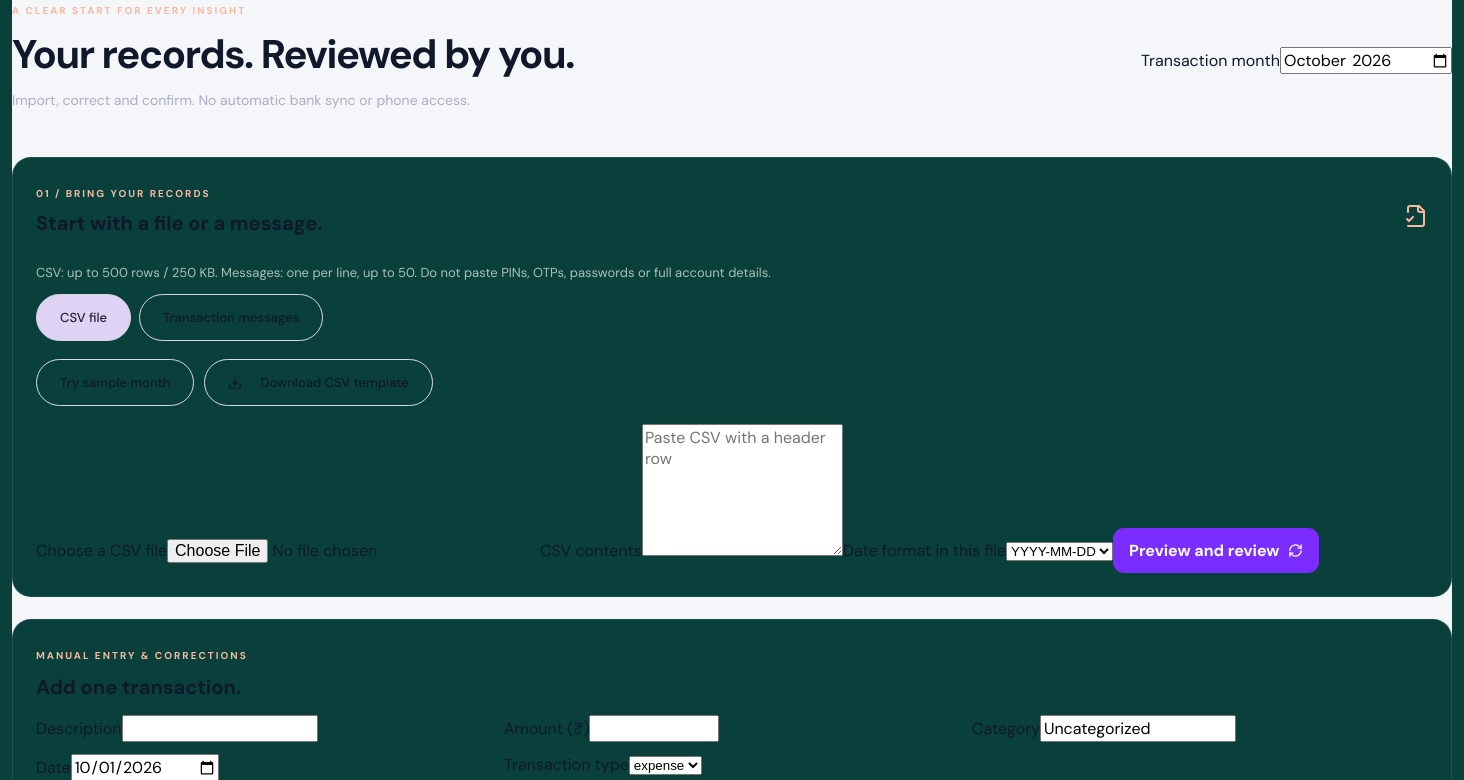
it: lets the user explicitly include a duplicate and acknowledge it
Click the button "Try sample month".
click(115, 382)  # box [36,359,194,406]
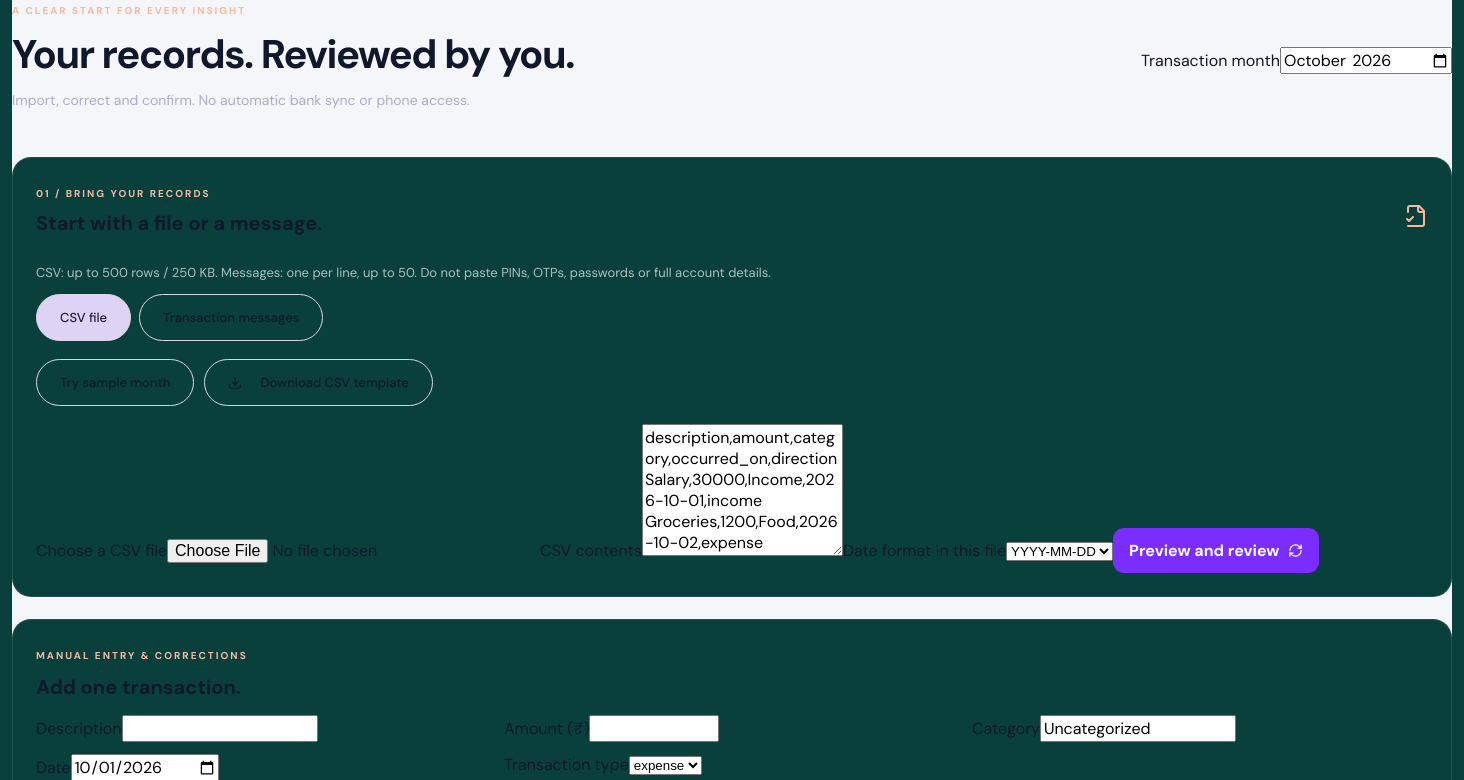
Click the button "Preview and review".
click(1216, 550)  # box [1113,528,1319,573]
(page scrolled)
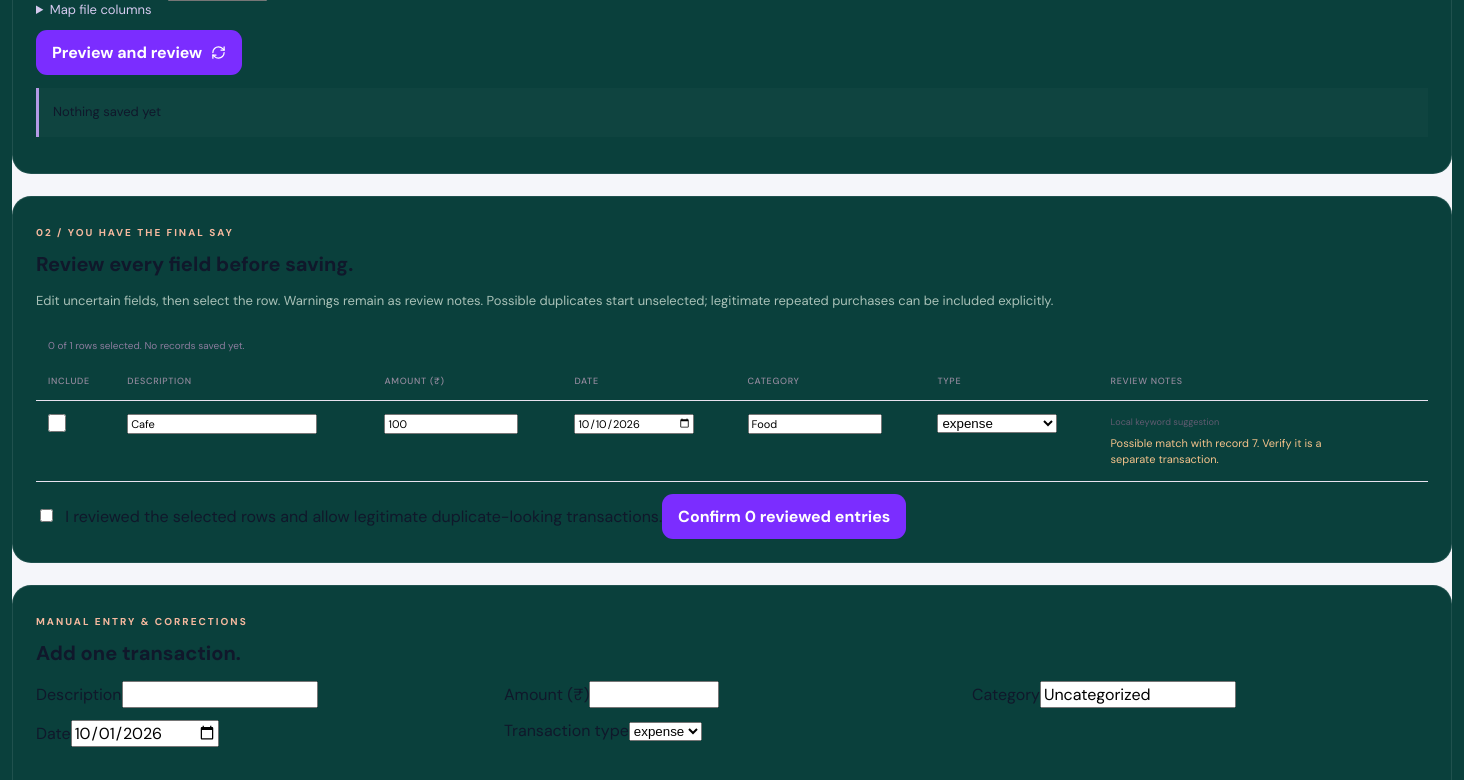
Check: the checkbox named "Include row 2" is shown
Check: the button "Confirm 0 reviewed entries" is disabled, box [662,494,906,539]
Click the checkbox named "Include row 2".
click(57, 423)  # box [48,414,66,432]
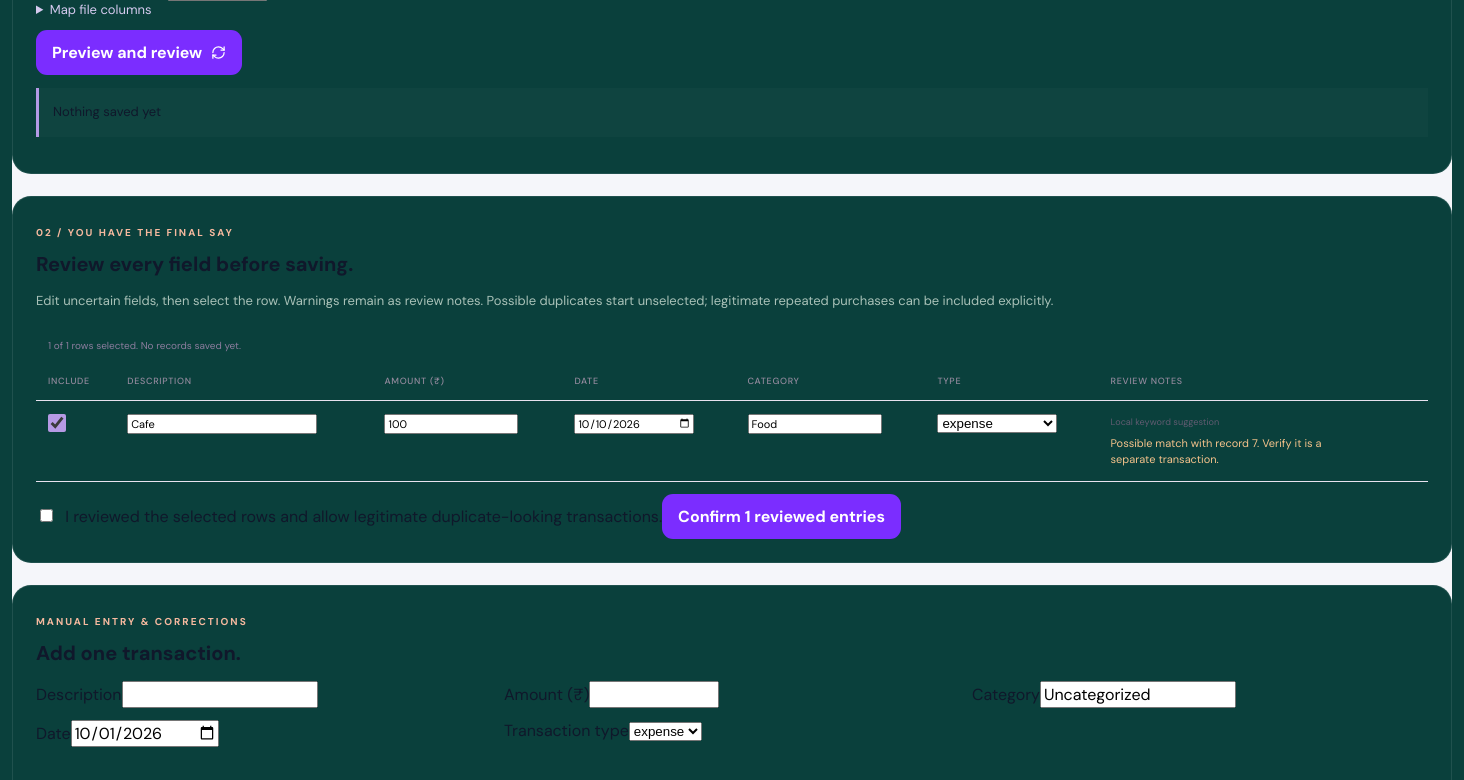
Click the checkbox labelled "I reviewed the selected rows".
click(46, 515)  # box [40,509,53,522]
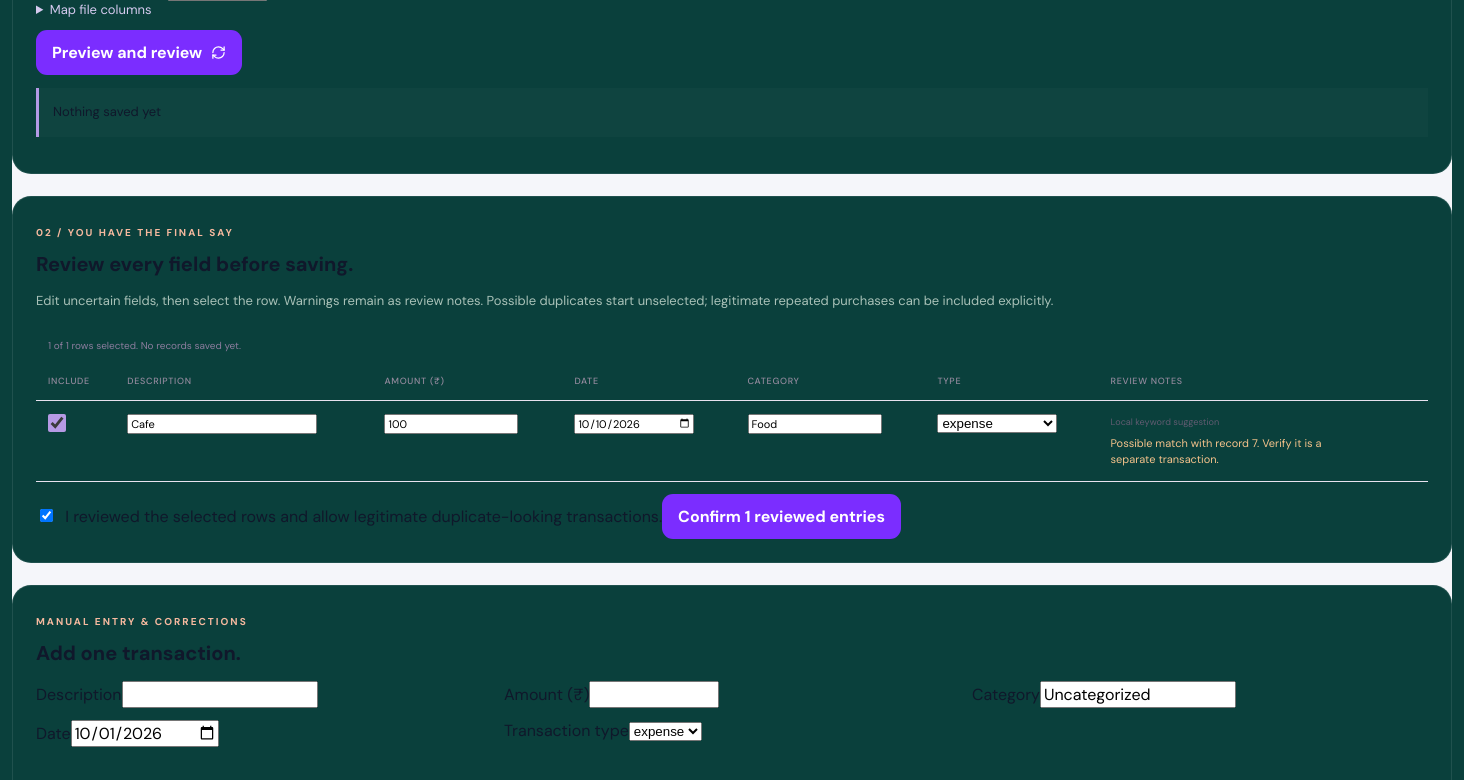
Click the button "Confirm 1 reviewed entries".
click(782, 516)  # box [662,494,901,539]
(page scrolled)
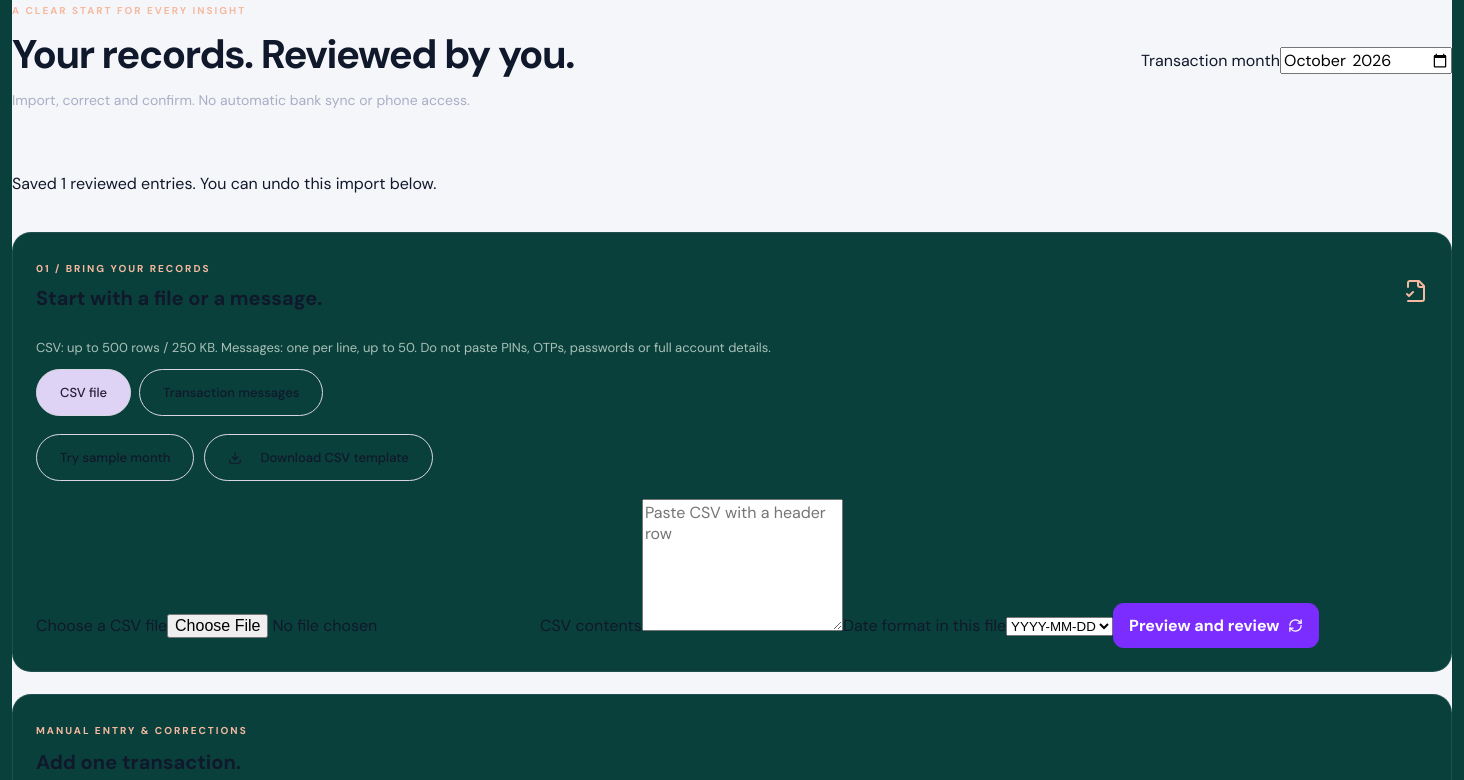
Check: the text "Saved 1 reviewed entries. You can undo this import below." is shown, box [12,173,436,194]
